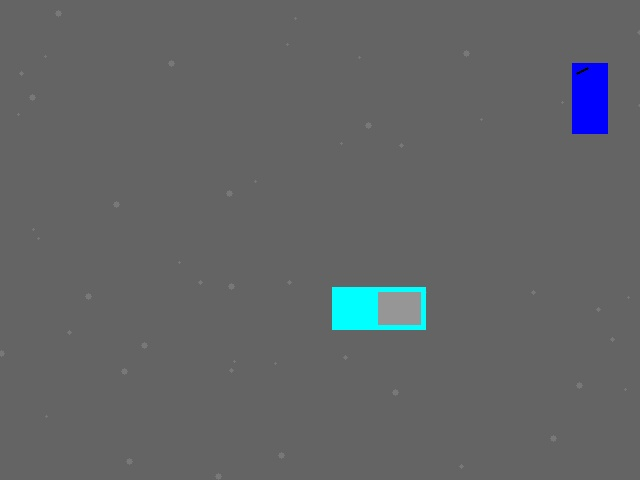motorcycle: (572, 63, 607, 133)
truck: (332, 287, 425, 329)
